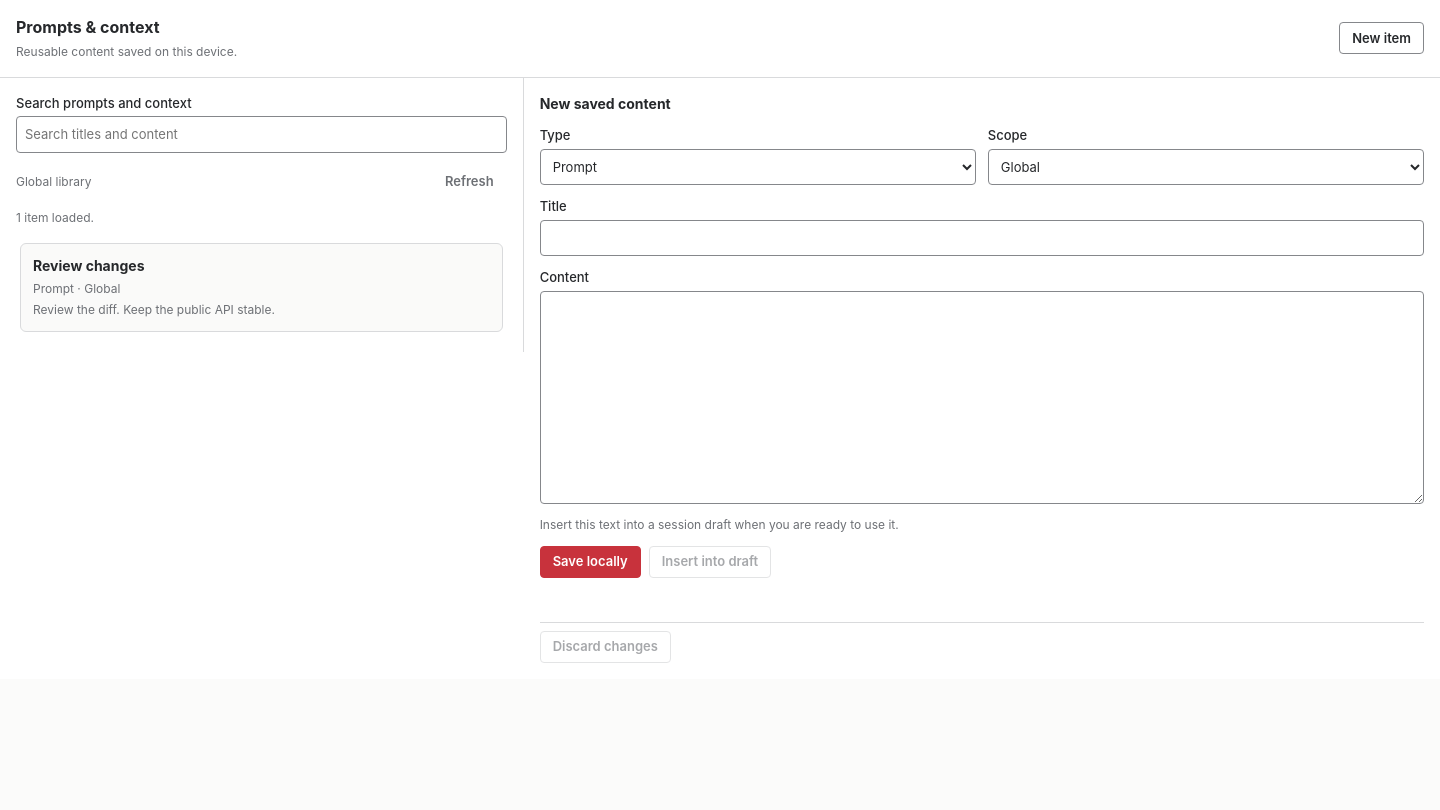
KnowledgePanel › requires confirmation before revision-bound deletion and keeps cancelled edits
The width and height of the screenshot is (1440, 810).
Click the button "Review changes" at (89, 265), box [20, 243, 503, 332]
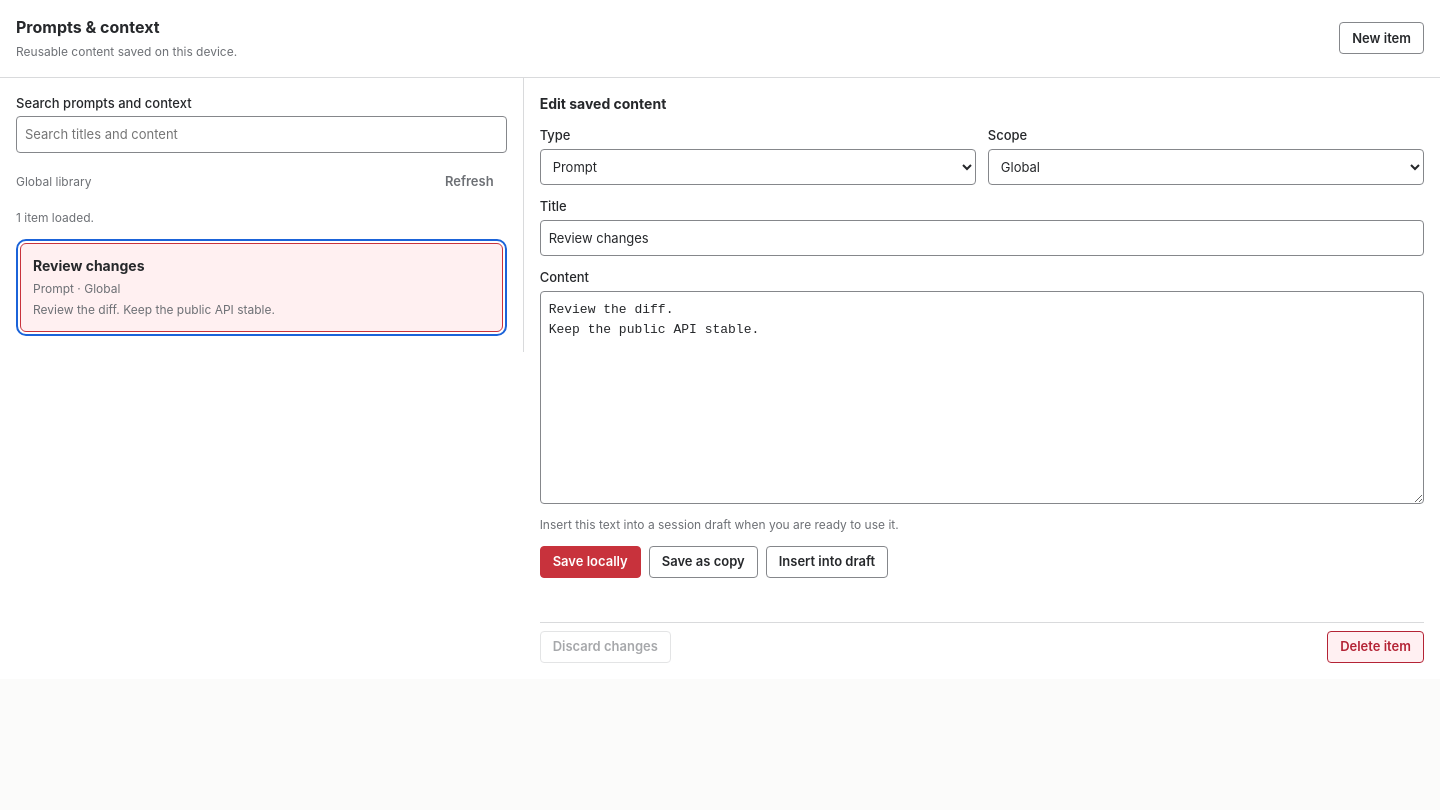
Replace the text in the text box labelled "Content" with "Keep my edits" at (982, 398), box [540, 291, 1424, 504]
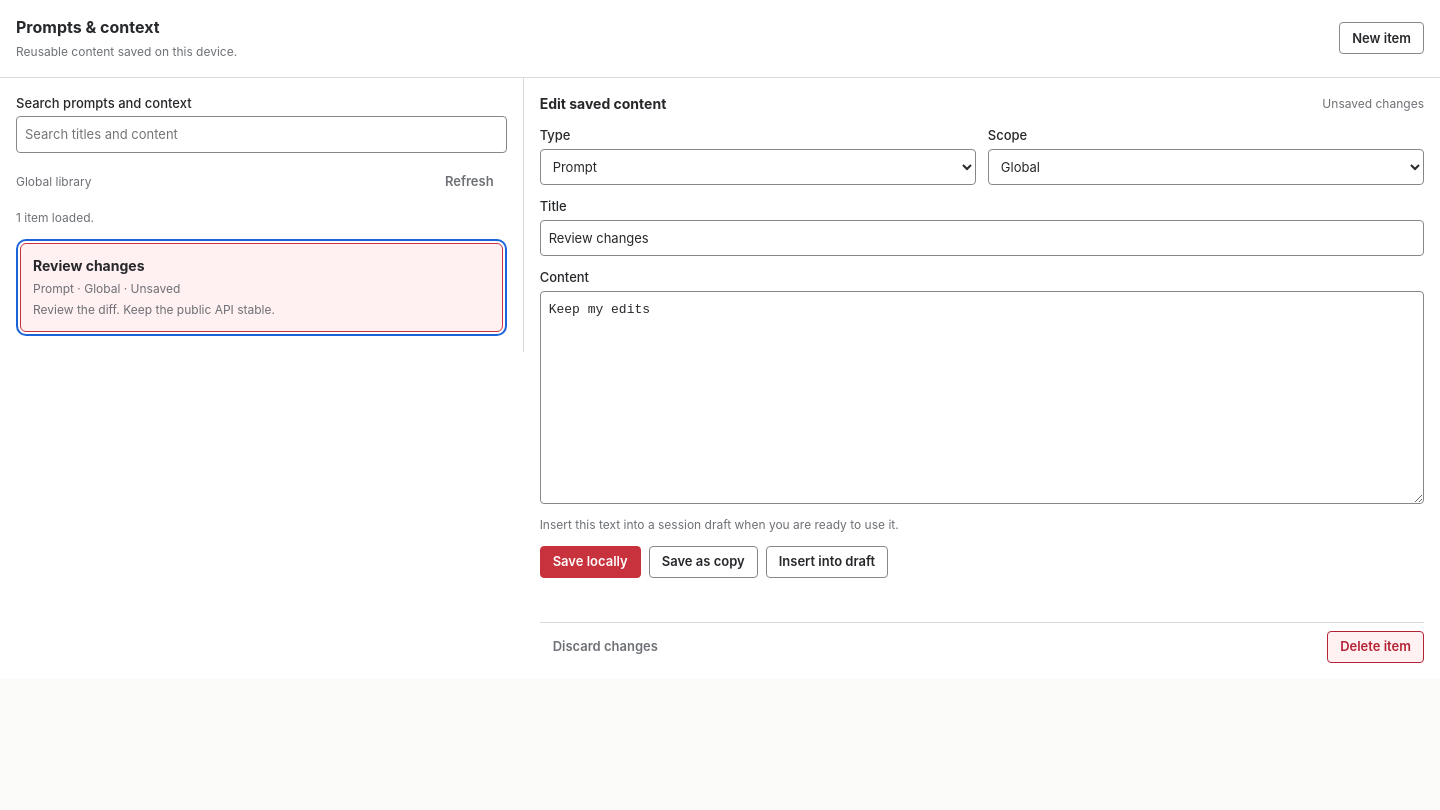
Click the button "Delete item" at (1376, 647), box [1327, 631, 1424, 663]
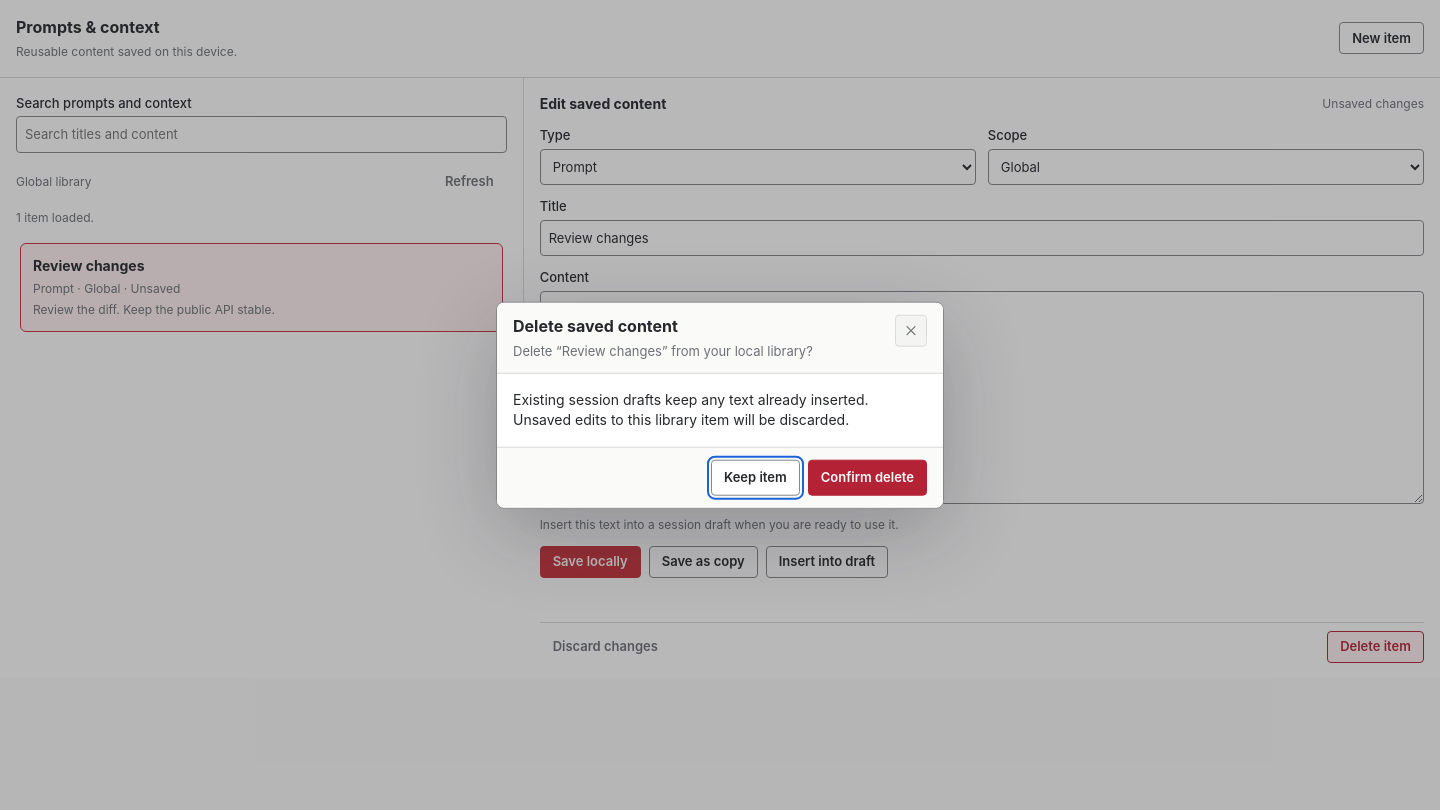
Click the button "Keep item" at (755, 477), box [711, 459, 800, 495]
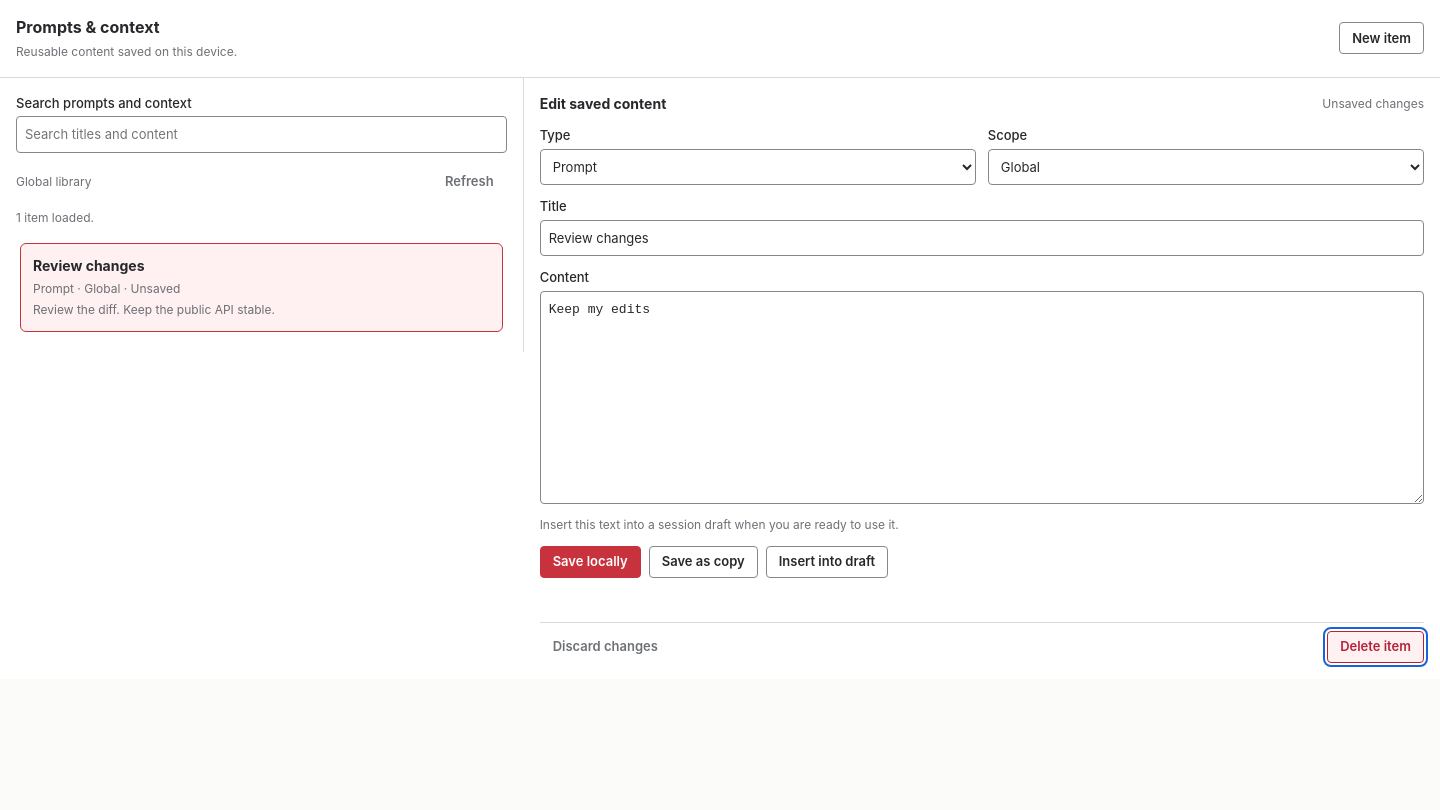
Click the button "Delete item" at (1376, 647), box [1327, 631, 1424, 663]
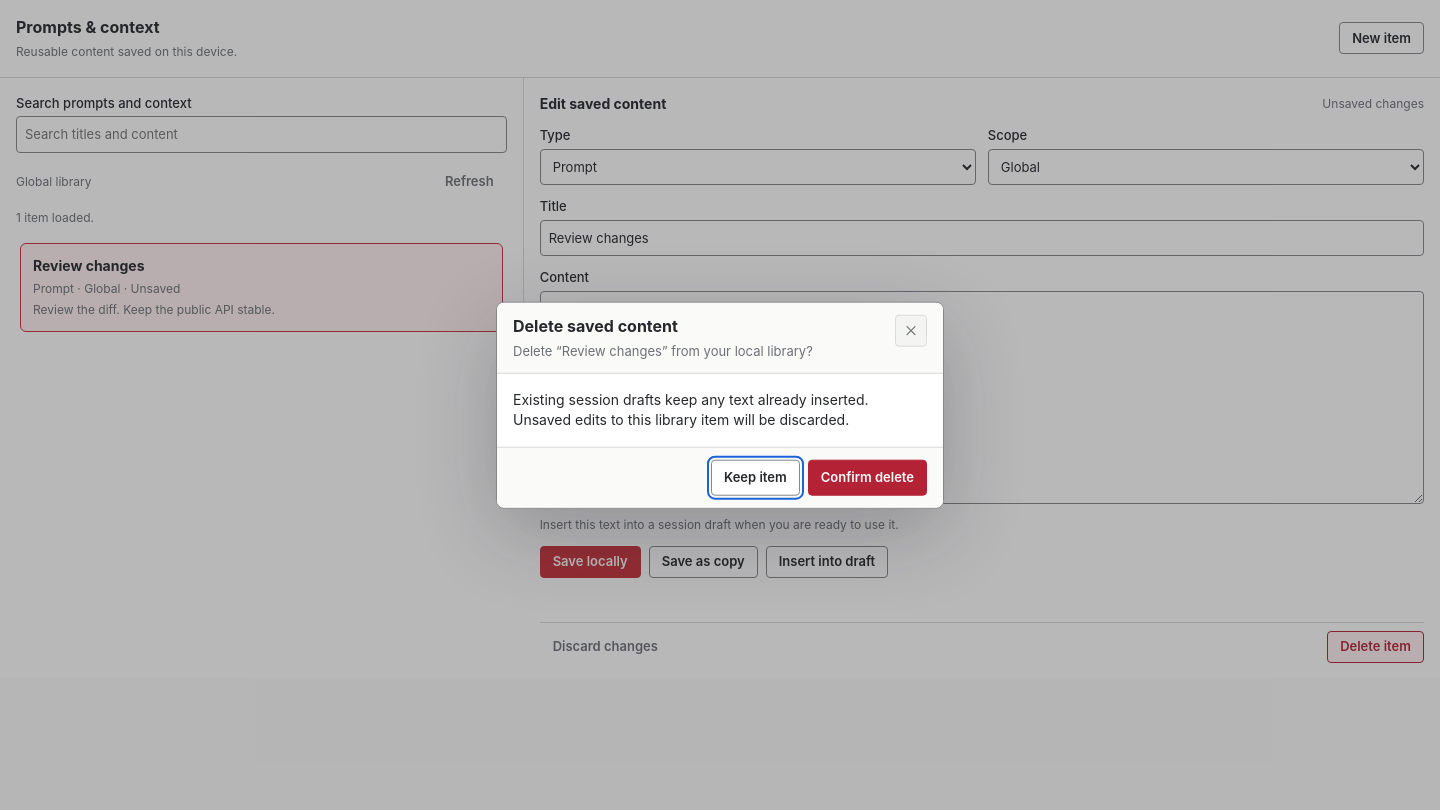
Click the button "Confirm delete" at (867, 477), box [808, 459, 927, 495]
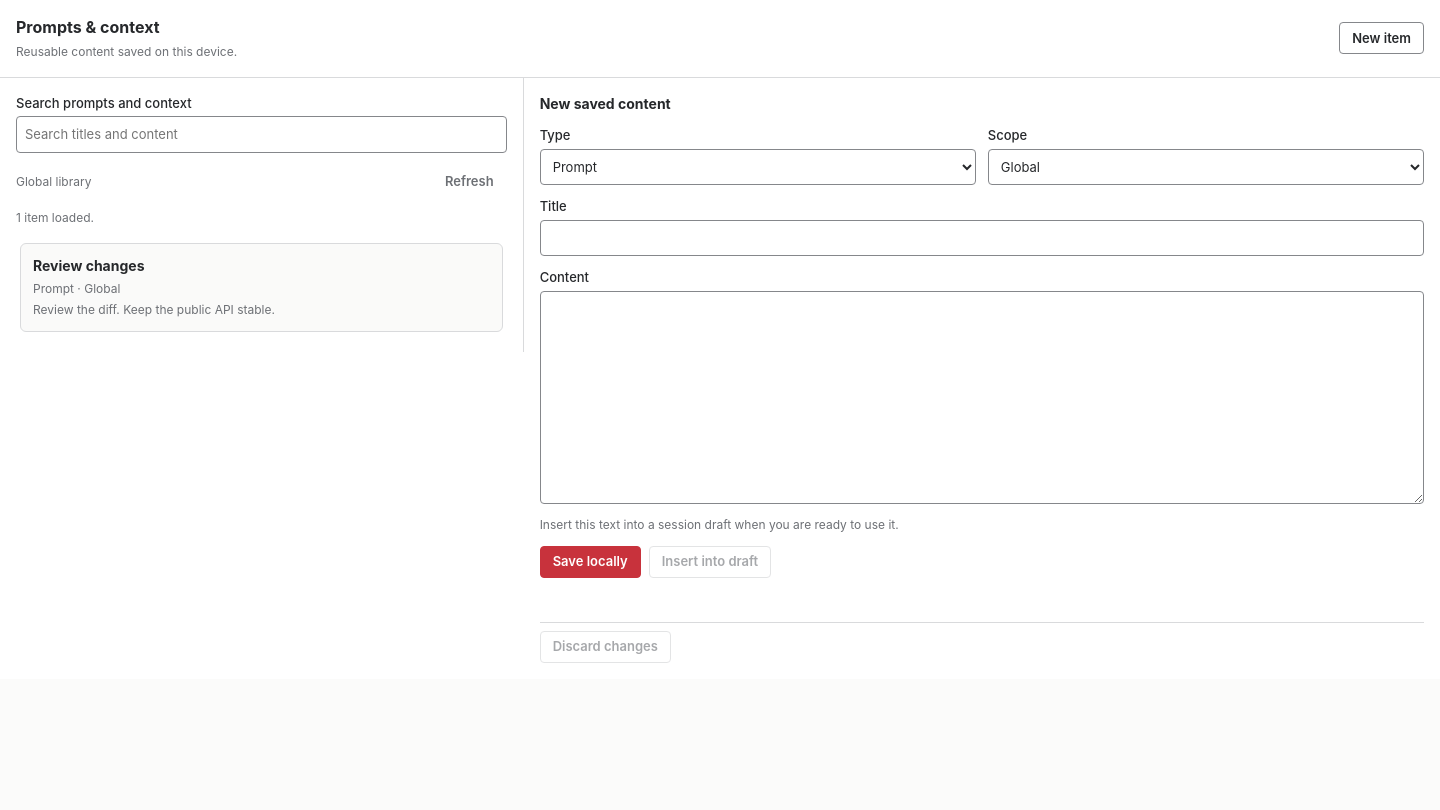
Expected: the dialog is gone
Expected: the field labelled "Title" is empty, [540, 220, 1424, 256]
